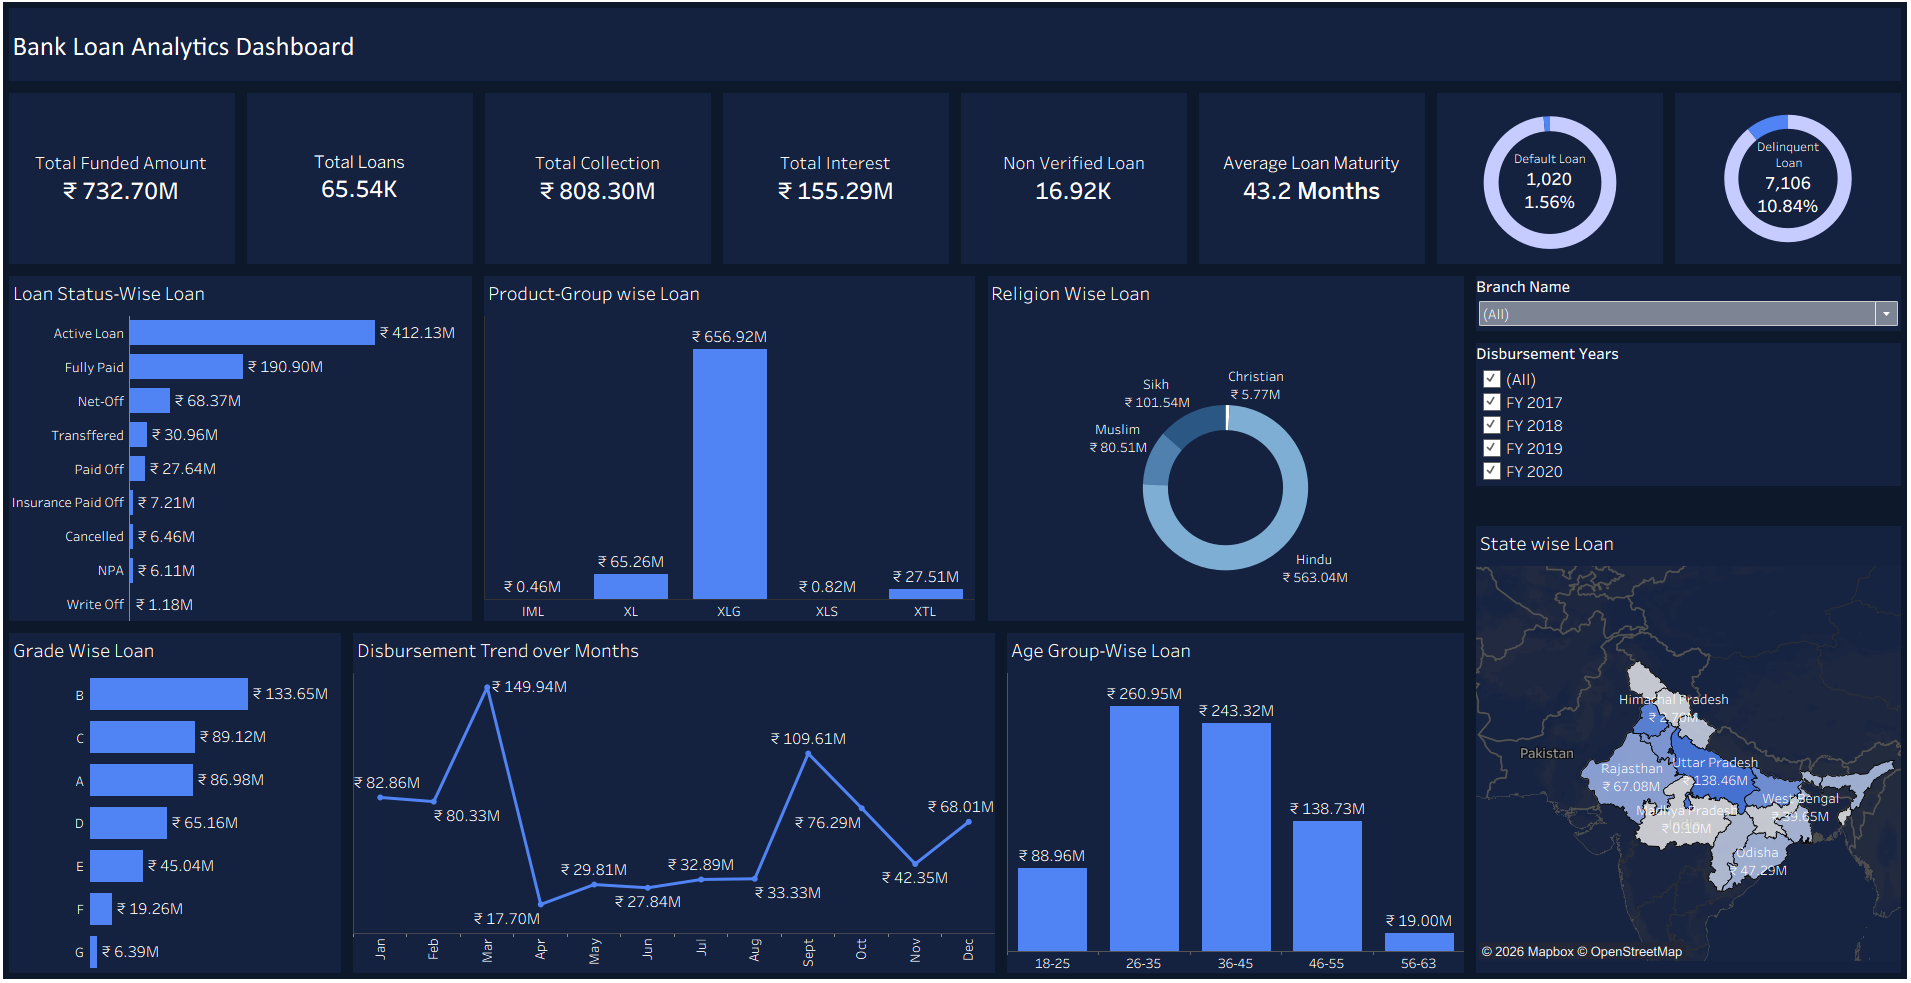

What the dashboard file says about the page in this screenshot:
{"tool":"tableau","page":{"name":"Dashboard 1","canvas":[1000,1000],"units":"permille","ordinal":0},"visuals":[{"type":"text","box":[4.9,10,990.1,84.9]},{"type":"worksheet","title":"Total funded amount","mark":"Automatic","box":[4.9,94.9,123.8,183.5]},{"type":"worksheet","title":"Total Loans","mark":"Automatic","box":[128.7,94.9,123.8,183.5]},{"type":"worksheet","title":"Total Collection","mark":"Automatic","box":[252.5,94.9,123.8,183.5]},{"type":"worksheet","title":"Total Interest","mark":"Automatic","box":[376.2,94.9,123.8,183.5]},{"type":"worksheet","title":"Non verified loans","mark":"Automatic","box":[500,94.9,123.8,183.5]},{"type":"worksheet","title":"Average Loan Maturity (Months)","mark":"Automatic","box":[623.7,94.9,123.8,183.5]},{"type":"worksheet","title":"Default Loan","mark":"Pie","rows":["Calculation_1842253757352505349","Calculation_1842253757352534023"],"box":[747.5,94.9,123.8,183.5]},{"type":"worksheet","title":"Delinquent Loan","mark":"Pie","rows":["Calculation_1842253757352505349","Calculation_1842253757352534023"],"box":[871.3,94.9,123.8,183.5]},{"type":"worksheet","title":"Loan Status-Wise Loan","mark":"Automatic","rows":["Loan_Status"],"cols":["Loan_Amount"],"box":[4.9,278.4,247.2,358.1]},{"type":"worksheet","title":"Product-Group wise Loan","mark":"Automatic","rows":["Loan_Amount"],"cols":["Product _Code"],"box":[252.1,278.4,261.7,358.1]},{"type":"worksheet","title":"Religion Wise Loan","mark":"Pie","rows":["Calculation_1842253757372846093","Calculation_1842253757372870671"],"box":[513.8,278.4,254.2,358.1]},{"type":"filter","title":"Age Group-Wise Loan","param":"[federated.1sf12a31s66beb1ev07wz14o3s9r].[none:BranchName:nk]","box":[768,278.4,227.1,83.6]},{"type":"filter","title":"Age Group-Wise Loan","param":"[federated.1sf12a31s66beb1ev07wz14o3s9r].[none:Disbursement_Years:nk]","box":[768,362,227.1,167.3]},{"type":"worksheet","title":"State wise Loan","mark":"Automatic","box":[768,529.3,227.1,460.7]},{"type":"worksheet","title":"Grade Wise Loan","mark":"Automatic","rows":["Grade"],"cols":["Loan_Amount"],"box":[4.9,636.5,178.8,353.5]},{"type":"worksheet","title":"Disbursement Trend over Months","mark":"Automatic","rows":["Loan_Amount"],"cols":["Disbursement_Date"],"box":[183.7,636.5,340,353.5]},{"type":"worksheet","title":"Age Group-Wise Loan","mark":"Automatic","rows":["Loan_Amount"],"cols":["Age"],"box":[523.7,636.5,244.3,353.5]}]}

Visuals, with their boxes on the dashboard's canvas, which has no fixed pixel size, in thousandths of its width and height (x1, y1, x2, y2). These are canvas units, not pixel positions in the 1911x983 screenshot, which may show the page scaled, cropped or inside an application window:
text: (left=5, top=10, right=995, bottom=95)
"Total funded amount" worksheet: (left=5, top=95, right=129, bottom=278)
"Total Loans" worksheet: (left=129, top=95, right=252, bottom=278)
"Total Collection" worksheet: (left=252, top=95, right=376, bottom=278)
"Total Interest" worksheet: (left=376, top=95, right=500, bottom=278)
"Non verified loans" worksheet: (left=500, top=95, right=624, bottom=278)
"Average Loan Maturity (Months)" worksheet: (left=624, top=95, right=748, bottom=278)
"Default Loan" worksheet (Pie marks): (left=748, top=95, right=871, bottom=278)
"Delinquent Loan" worksheet (Pie marks): (left=871, top=95, right=995, bottom=278)
"Loan Status-Wise Loan" worksheet: (left=5, top=278, right=252, bottom=636)
"Product-Group wise Loan" worksheet: (left=252, top=278, right=514, bottom=636)
"Religion Wise Loan" worksheet (Pie marks): (left=514, top=278, right=768, bottom=636)
"Age Group-Wise Loan" filter: (left=768, top=278, right=995, bottom=362)
"Age Group-Wise Loan" filter: (left=768, top=362, right=995, bottom=529)
"State wise Loan" worksheet: (left=768, top=529, right=995, bottom=990)
"Grade Wise Loan" worksheet: (left=5, top=636, right=184, bottom=990)
"Disbursement Trend over Months" worksheet: (left=184, top=636, right=524, bottom=990)
"Age Group-Wise Loan" worksheet: (left=524, top=636, right=768, bottom=990)
